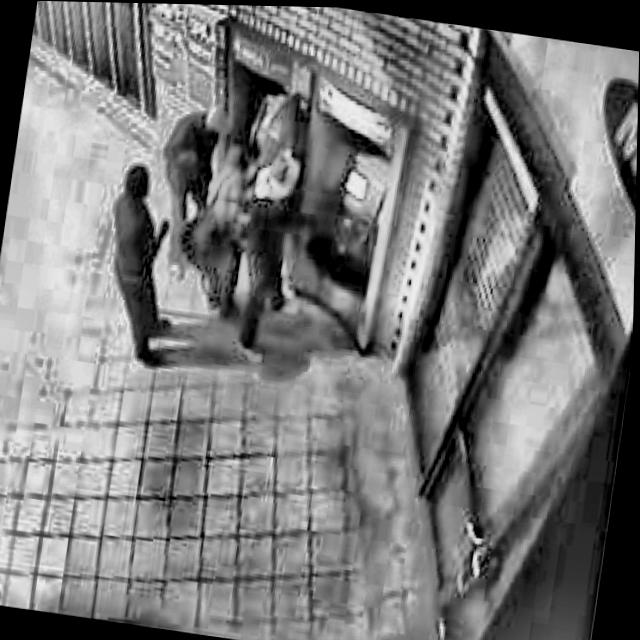burglary: (88, 55, 399, 401)
